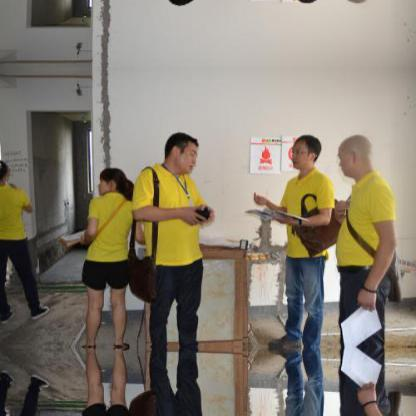No Helmet: (332, 135, 382, 187), (159, 126, 205, 176), (280, 131, 329, 176), (87, 163, 136, 205), (0, 155, 17, 194)
